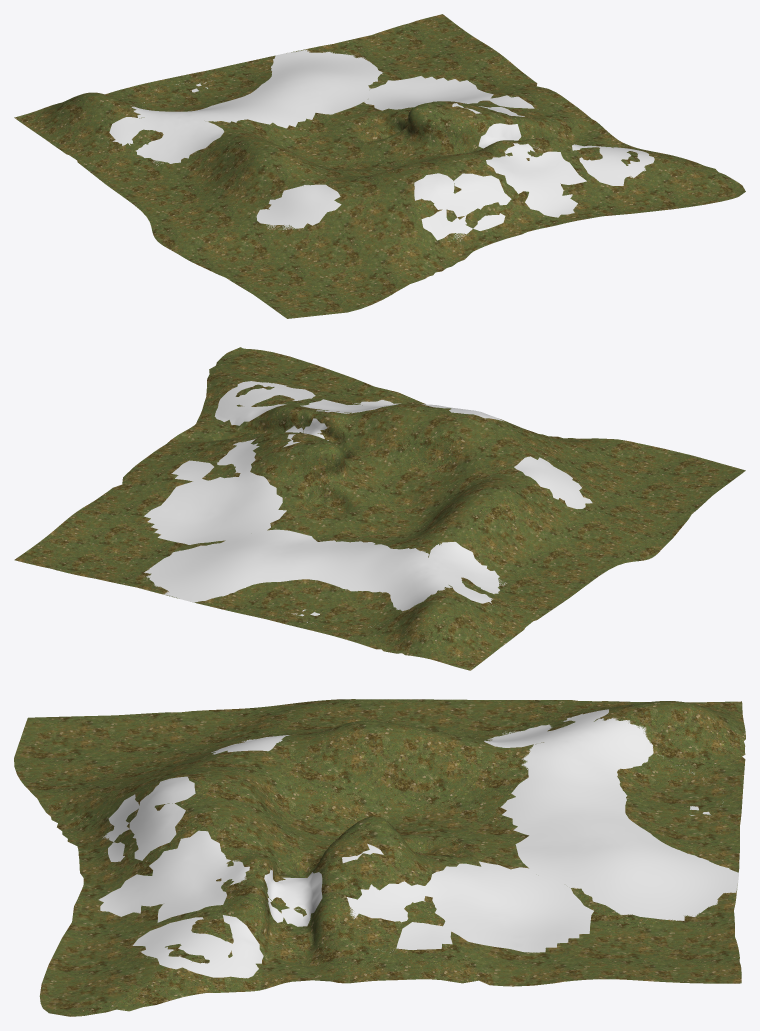
File: bunkergrass.fbx
The picture shows the model from 3 angles, top to bottom: view 1: azimuth 30°, elevation 25°; view 2: azimuth 150°, elevation 25°; view 3: azimuth 270°, elevation 25°; orthographic projection. The views are drawn at different scales.
Parts seen in each view (by area): view 1: hierba.002; view 2: hierba.002; view 3: hierba.002.
Boxes of the visible parts, bbox=[...] form: hierba.002: bbox=[14, 14, 745, 318]; hierba.002: bbox=[14, 347, 745, 670]; hierba.002: bbox=[14, 699, 745, 1016].
Bounding box in the file's own units: 2197 × 239 × 2109.
